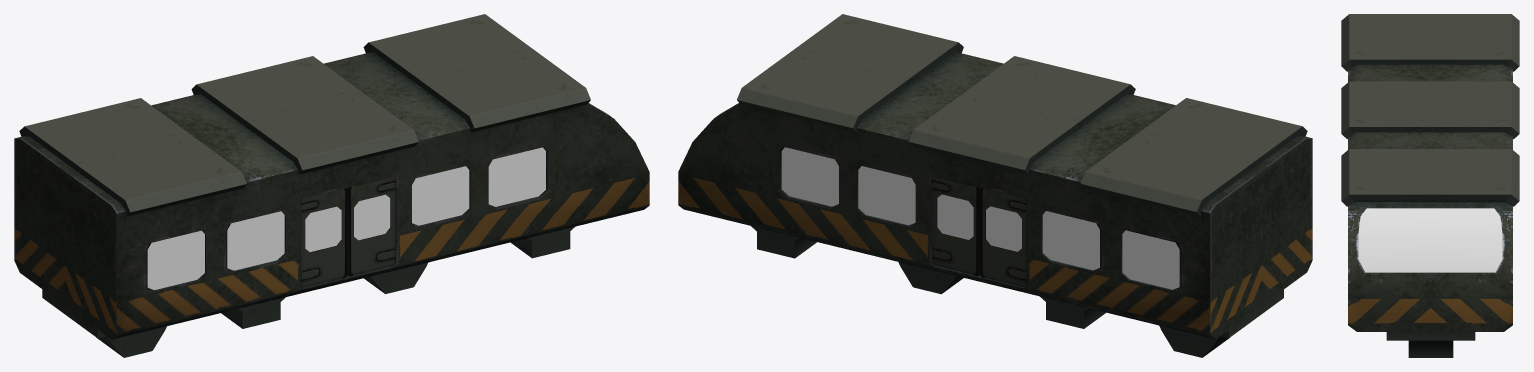
The model's file is Train.fbx.
The picture shows the model from 3 angles, left to right: view 1: azimuth 30°, elevation 25°; view 2: azimuth 150°, elevation 25°; view 3: azimuth 270°, elevation 25°; orthographic projection. The views are drawn at different scales.
Parts seen in each view (by area): view 1: Train, DoorL2, DoorR2; view 2: Train, DoorL1, DoorR1; view 3: Train.
Part boxes in pixels (x1,y1,x2,y2): Train: (14, 14, 649, 357); DoorL2: (347, 176, 395, 276); DoorR2: (301, 188, 347, 287); Train: (678, 14, 1312, 357); DoorL1: (931, 176, 980, 275); DoorR1: (979, 188, 1026, 287); Train: (1341, 14, 1519, 357).
Size of the model in its own units: 27.23 by 9.45 by 9.82.
